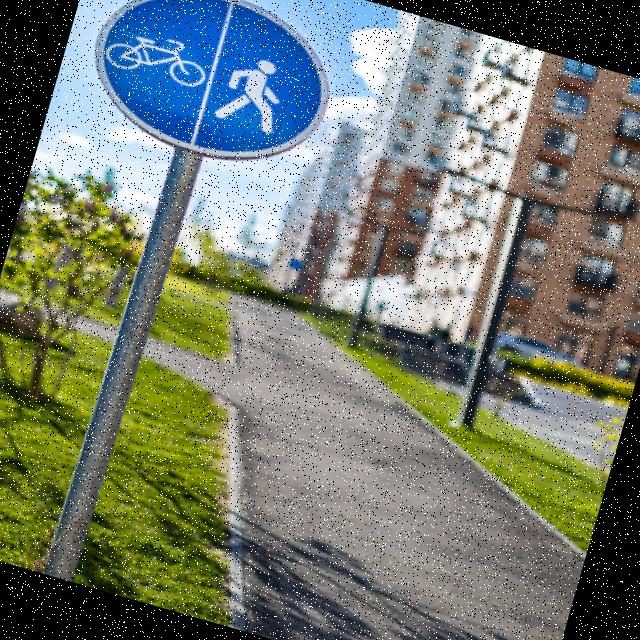bicycle: (63, 0, 352, 185)
